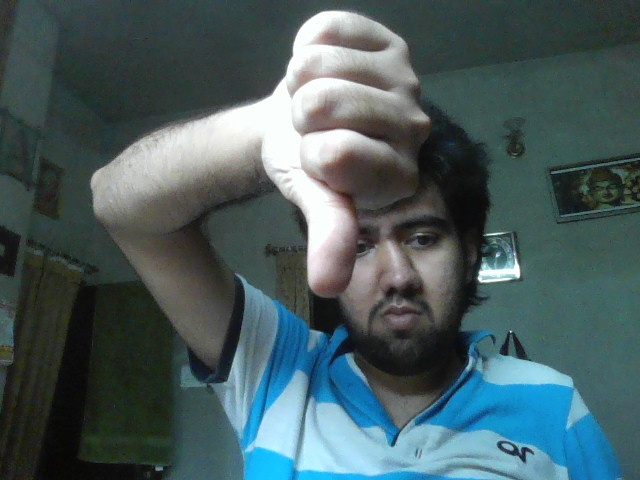NotOk: (264, 11, 421, 298)
